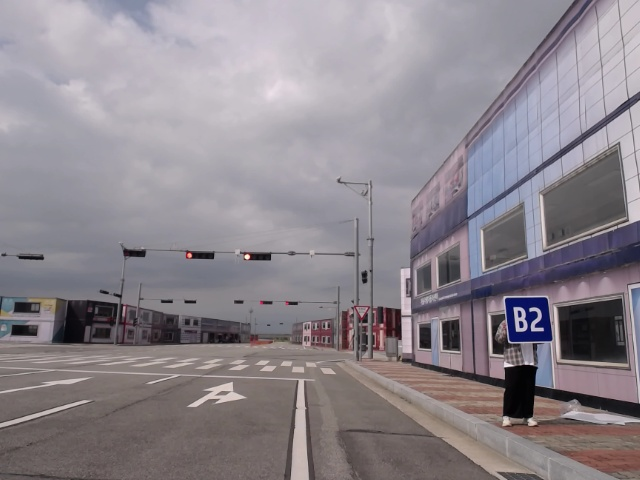delivery_b2: (501, 294, 556, 345)
red_4: (183, 250, 217, 260), (243, 252, 270, 262), (259, 299, 275, 307), (283, 300, 300, 307)
